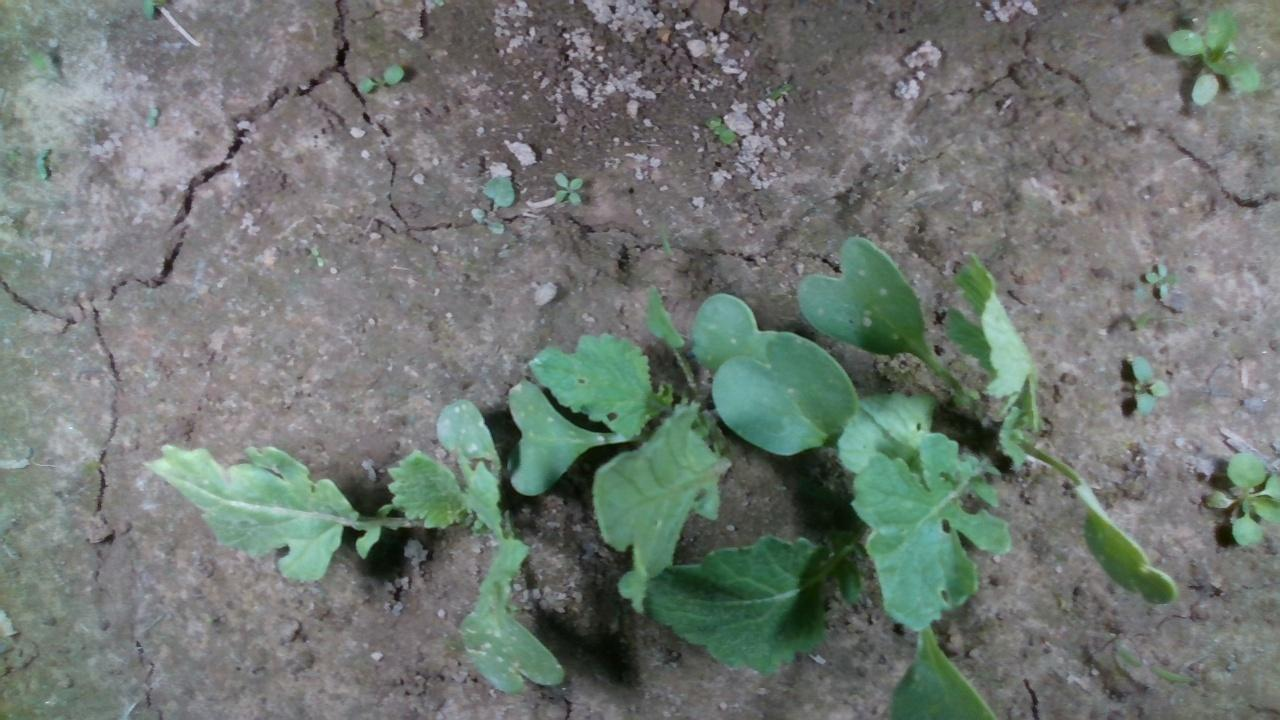weed: (1126, 354, 1167, 416), (356, 62, 406, 94), (1142, 260, 1179, 300), (551, 170, 585, 205)
